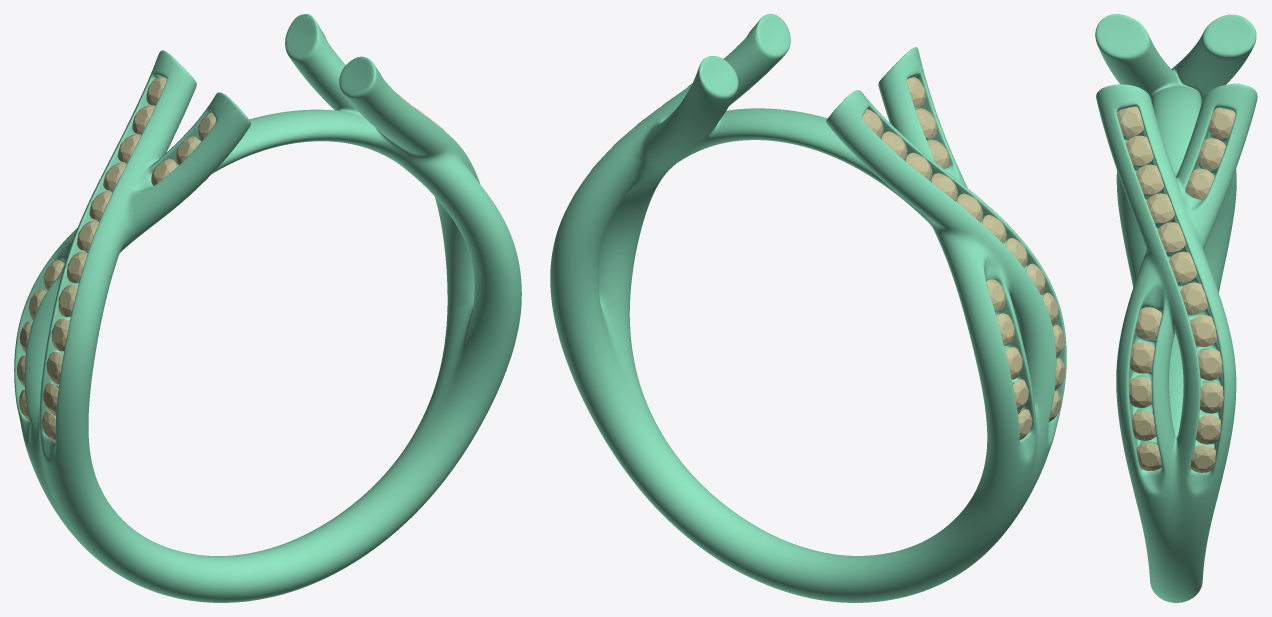
3 renders of one model, left to right at view 1: azimuth 30°, elevation 25°; view 2: azimuth 150°, elevation 25°; view 3: azimuth 270°, elevation 25°, orthographic. The views are drawn at different scales.
Parts seen in each view (by area): view 1: Metal02; view 2: Metal02; view 3: Metal02, Diamond_Round.035, Diamond_Round.024, Diamond_Round.034, Diamond_Round.036, Diamond_Round.021, Diamond_Round.023, Diamond_Round.033, Diamond_Round.025, Diamond_Round.037, Diamond_Round.022, Diamond_Round.029 (+9 smaller).
Boxes of the visible parts, x1=… form: Metal02: x1=14, y1=14, x2=521, y2=602; Metal02: x1=550, y1=14, x2=1066, y2=602; Metal02: x1=1095, y1=14, x2=1257, y2=602; Diamond_Round.035: x1=1190, y1=315, x2=1217, y2=346; Diamond_Round.024: x1=1130, y1=341, x2=1154, y2=373; Diamond_Round.034: x1=1180, y1=282, x2=1208, y2=314; Diamond_Round.036: x1=1197, y1=349, x2=1222, y2=380; Diamond_Round.021: x1=1197, y1=138, x2=1225, y2=169; Diamond_Round.023: x1=1135, y1=307, x2=1161, y2=338; Diamond_Round.033: x1=1169, y1=251, x2=1197, y2=282; Diamond_Round.025: x1=1129, y1=376, x2=1152, y2=407; Diamond_Round.037: x1=1200, y1=383, x2=1223, y2=413; Diamond_Round.022: x1=1208, y1=108, x2=1235, y2=138; Diamond_Round.029: x1=1125, y1=135, x2=1153, y2=165.
Size of the model in its own units: 20.99 by 22.83 by 6.34.
